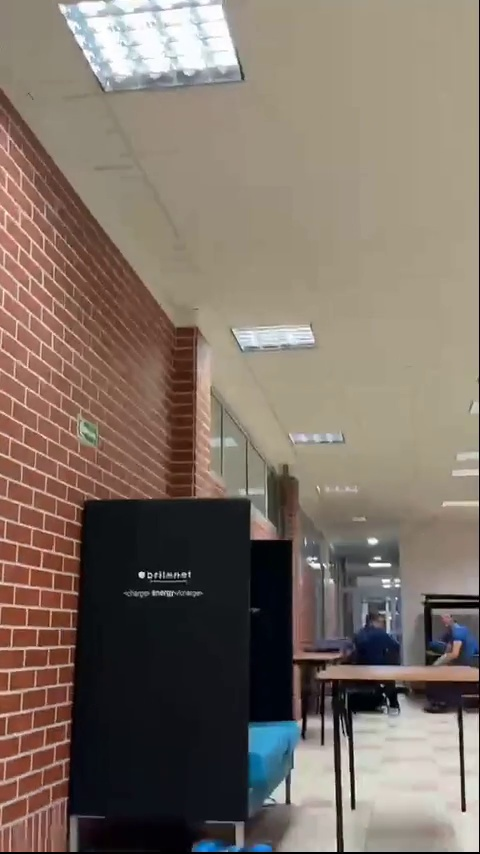drone: (195, 840, 270, 854)
no vest: (343, 606, 406, 680), (429, 606, 480, 682)
